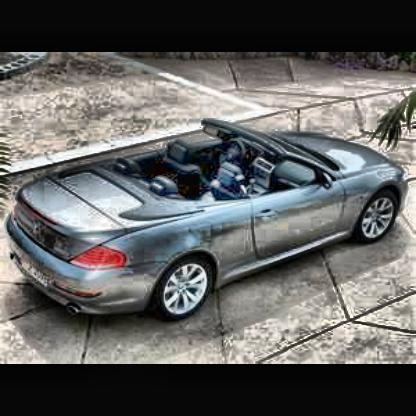BMW 6 Series Convertible 2007: (10, 118, 413, 320)
